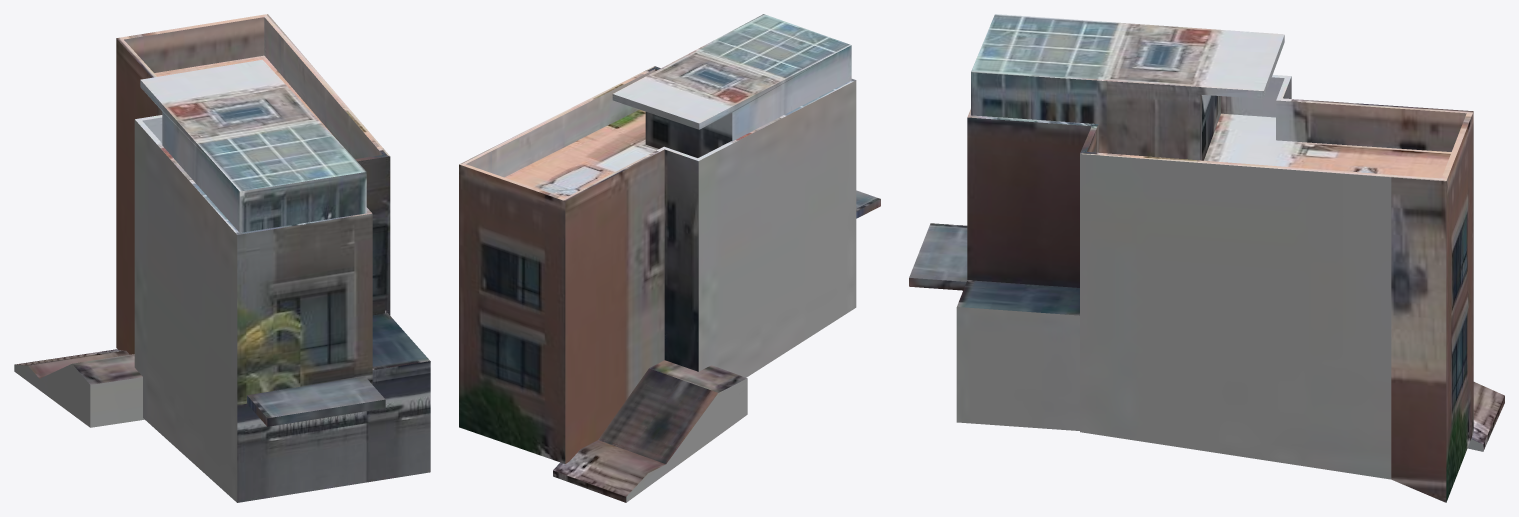
3 renders of one model, left to right at view 1: azimuth 30°, elevation 25°; view 2: azimuth 150°, elevation 25°; view 3: azimuth 270°, elevation 25°, orthographic. The views are drawn at different scales.
Visible parts, largest first — view 1: B280204034001063A0; view 2: B280204034001063A0; view 3: B280204034001063A0.
Boxes of the visible parts, x1=… form: B280204034001063A0: x1=14, y1=14, x2=430, y2=502; B280204034001063A0: x1=459, y1=14, x2=880, y2=502; B280204034001063A0: x1=909, y1=14, x2=1504, y2=502.
Size of the model in its own units: 8.63 by 11.62 by 16.57.
Materials: 1 (1 with a texture image).
